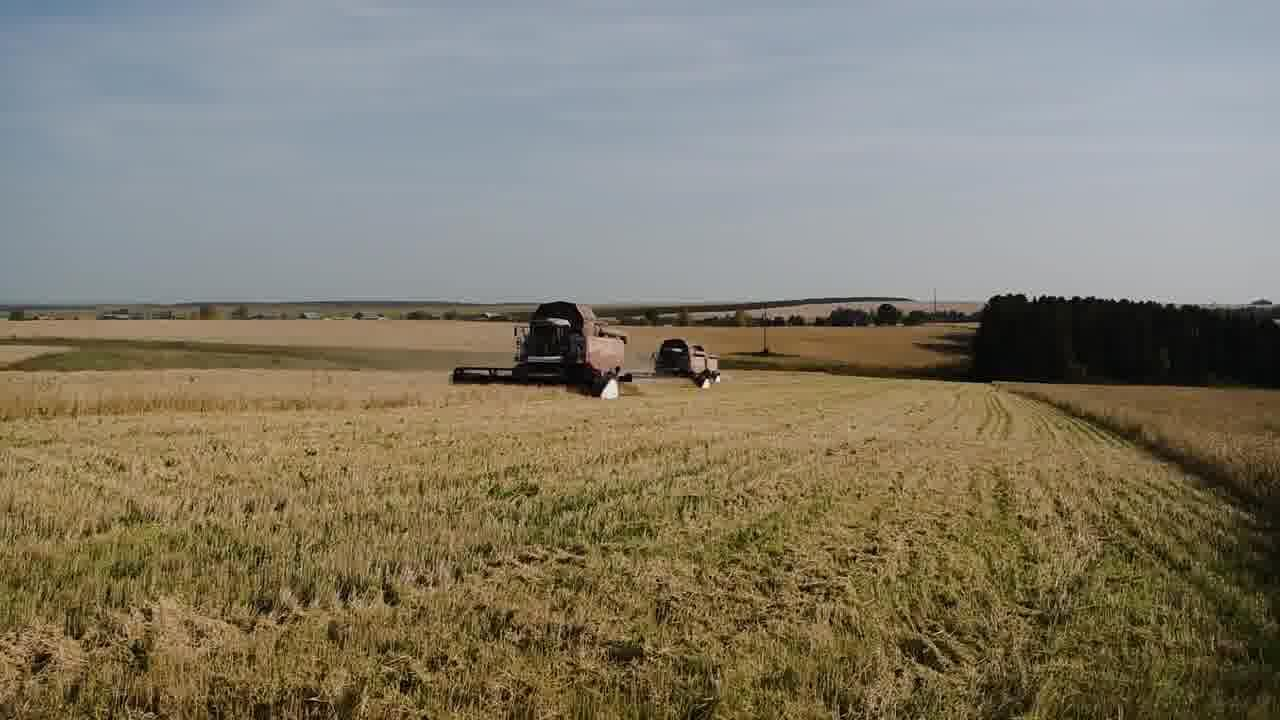combine harvester: (625, 338, 714, 395)
